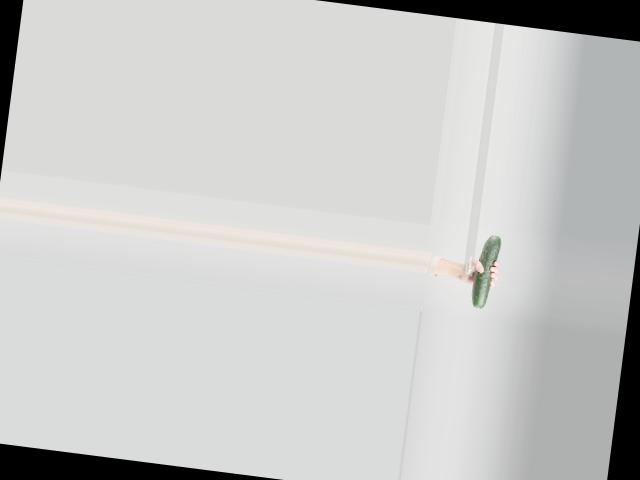cucumber: (470, 233, 502, 308)
